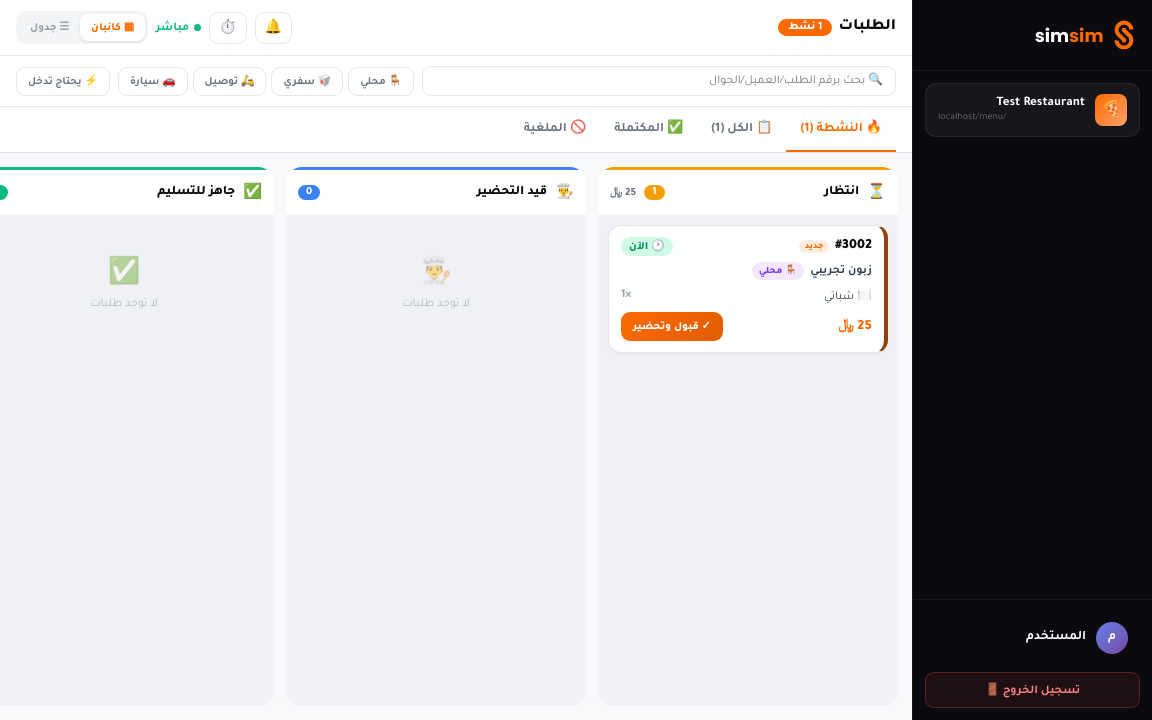
Orders() — advanceOrder (ORDERS-COV-020/021/022, the PHASE-7-adjacent concurrency guard) › 021 — conflict (order already changed): shows the specific "cancelled by customer" message, no false success, order leaves the active board
This screenshot has width=1152, height=720.
Expected: the text "🔥 النشطة (1)" is shown, [786,107,896,152]
Click the button "✓ قبول وتحضير" at (672, 326), box [621,312,723,341]
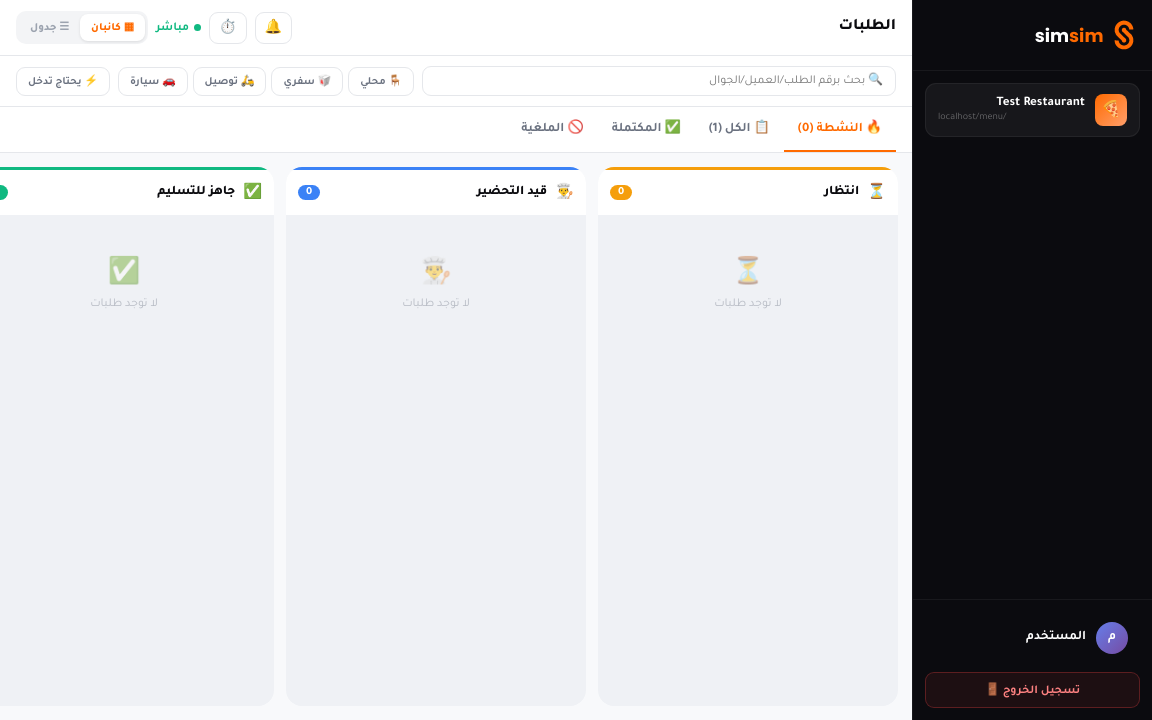
Now the text "#3002" is gone
